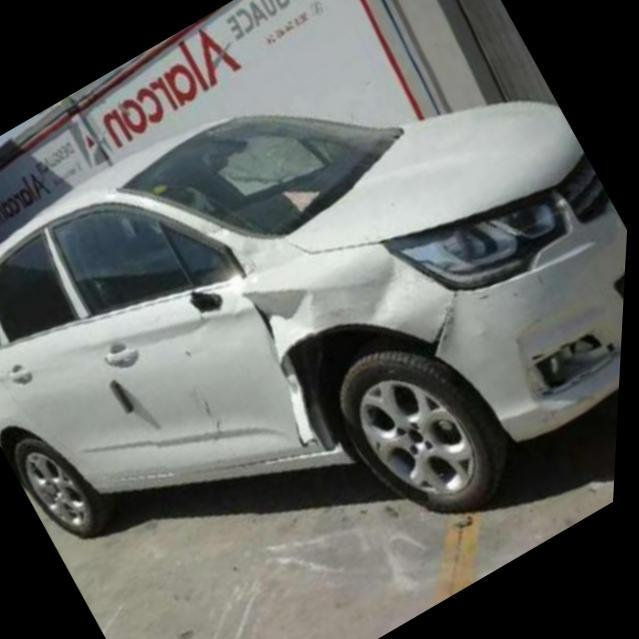crack: (185, 288, 224, 318)
dent: (243, 252, 456, 450)
